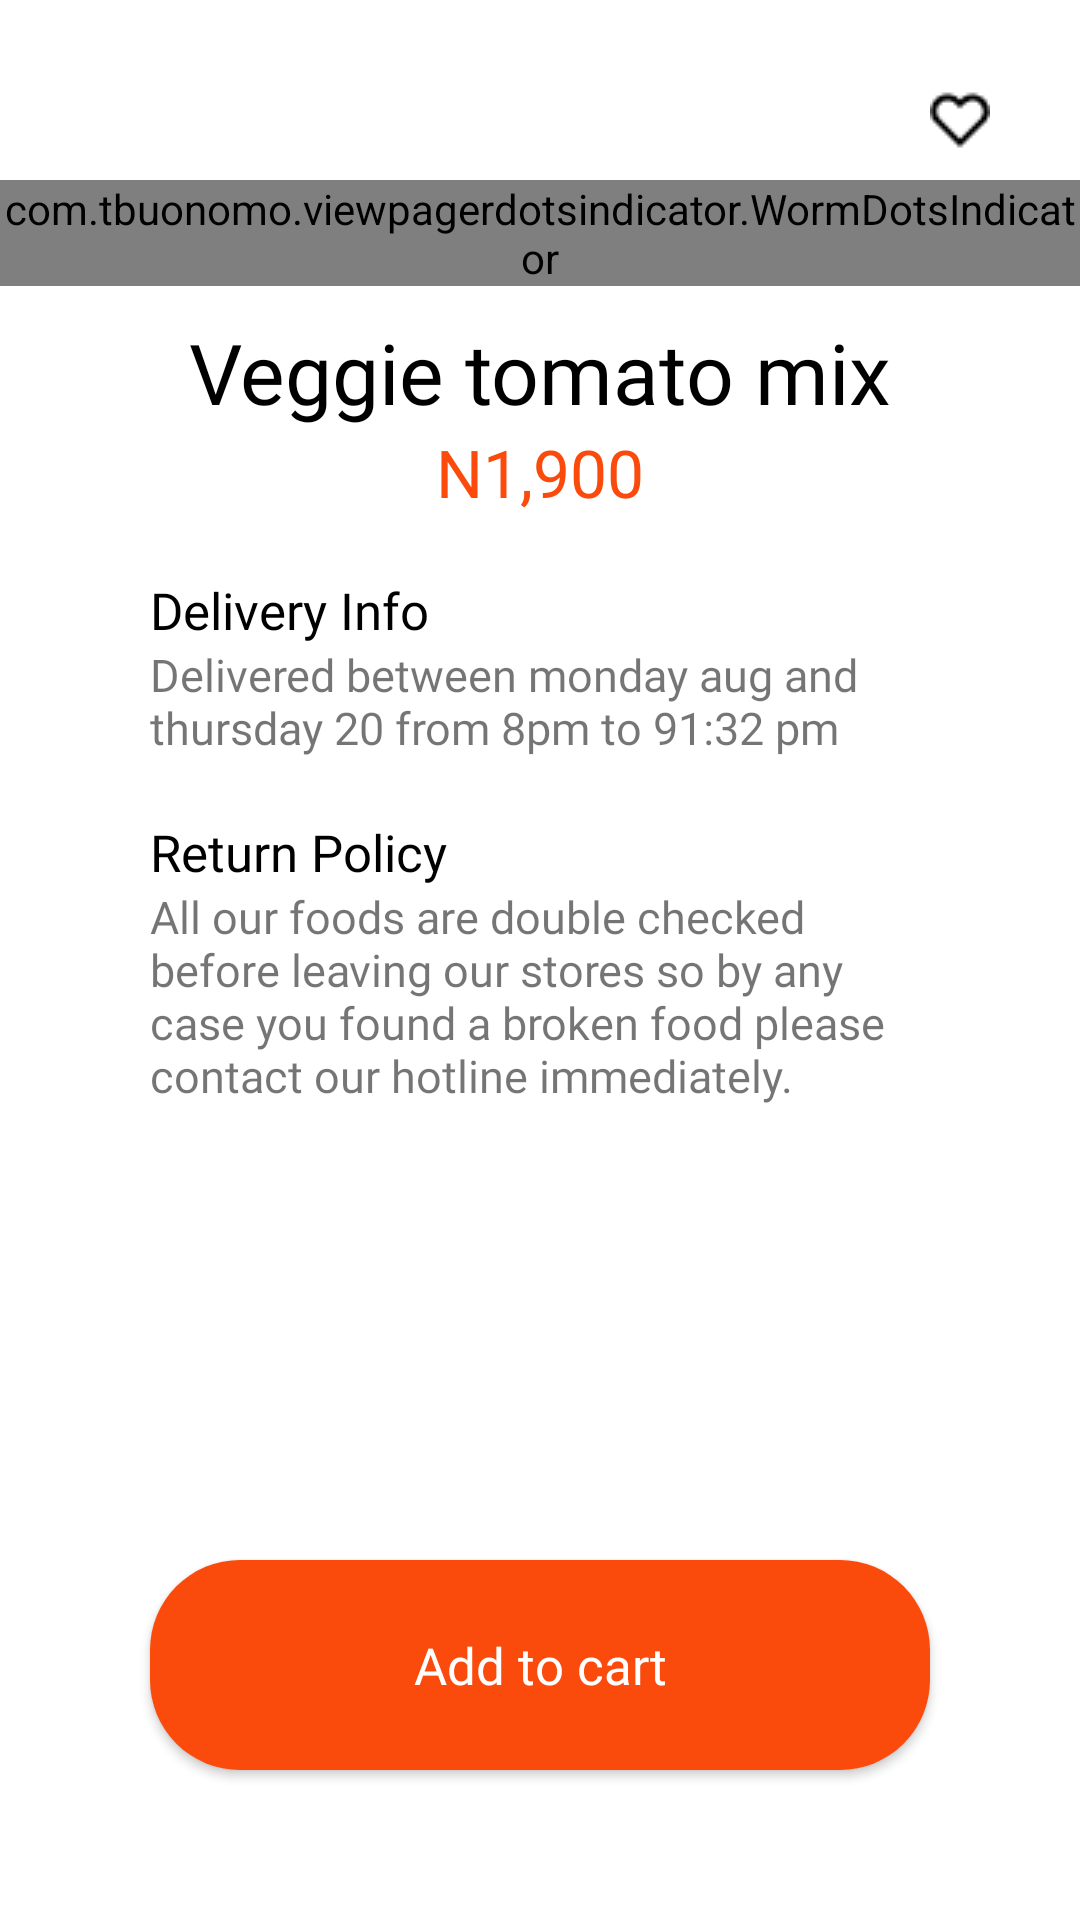

Icon bounding boxes for this 1080*1920 phone screenshot, format box=[x1, y1, x2, y2]:
heart: box=[930, 92, 990, 148]
